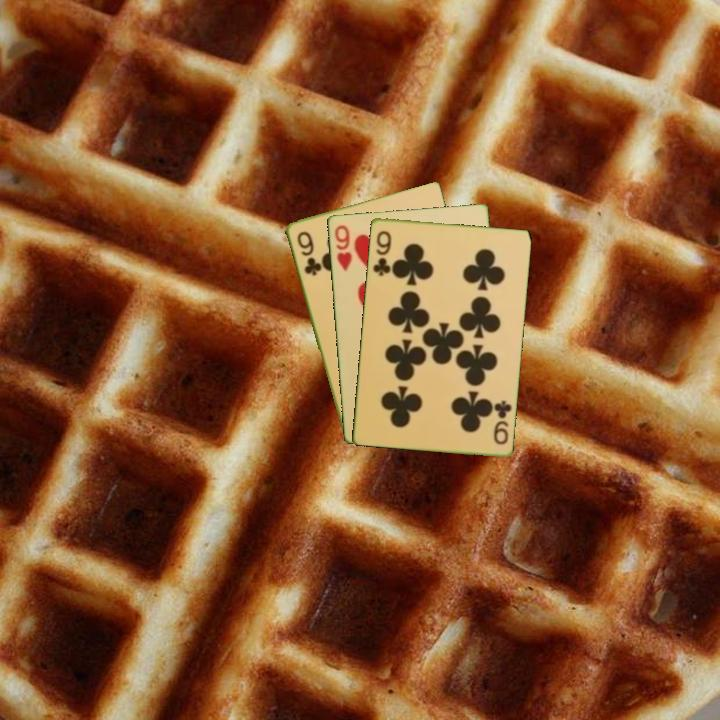9c: (293, 228, 322, 279), (369, 227, 394, 278), (490, 396, 514, 447)
9h: (331, 221, 354, 274)
